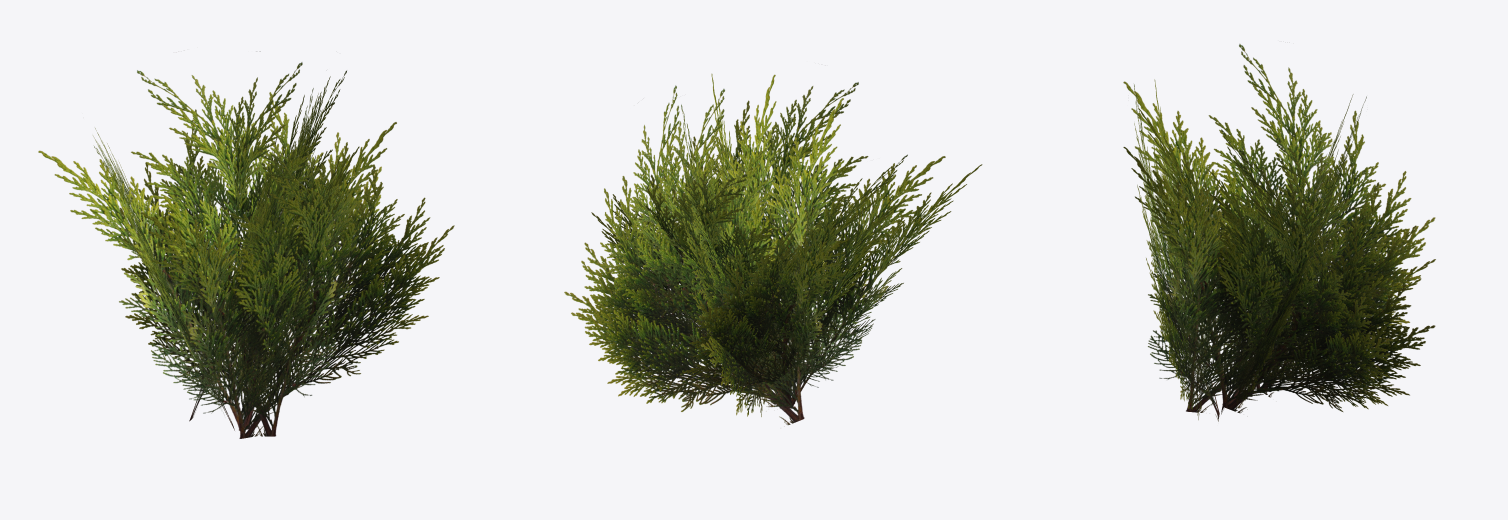
File: bush.glb
3 views of the same model, side by side, from view 1: azimuth 30°, elevation 25°; view 2: azimuth 150°, elevation 25°; view 3: azimuth 270°, elevation 25° (orthographic). The views are drawn at different scales.
Parts seen in each view (by area): view 1: bushgreen1; view 2: bushgreen1; view 3: bushgreen1.
Part boxes in pixels (x1,y1,x2,y2): bushgreen1: [38, 51, 454, 438]; bushgreen1: [564, 74, 982, 424]; bushgreen1: [1123, 44, 1435, 421].
Bounding box in the file's own units: 144 × 141 × 148.
1 material, 1 textured.
